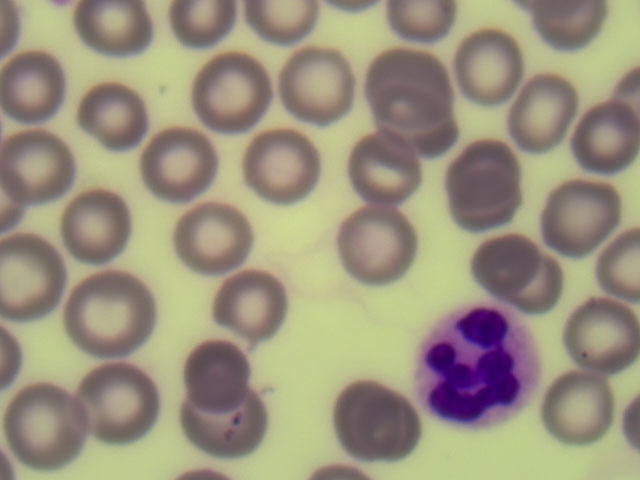RBC: (1, 46, 77, 125), (80, 74, 156, 153), (57, 180, 133, 259), (74, 274, 150, 353), (82, 360, 158, 439), (10, 381, 86, 460), (173, 341, 249, 420), (168, 381, 244, 460), (207, 260, 283, 339), (176, 189, 252, 268), (142, 127, 218, 206), (201, 50, 277, 129), (246, 127, 322, 206), (273, 44, 349, 123), (372, 38, 448, 117), (346, 129, 422, 208), (343, 202, 419, 281), (340, 379, 416, 458), (454, 138, 530, 217), (452, 32, 528, 111), (506, 75, 582, 154), (563, 92, 639, 171), (547, 177, 623, 256), (465, 212, 541, 291), (487, 242, 563, 321), (561, 298, 637, 377), (545, 367, 621, 446), (1, 122, 76, 201), (1, 231, 76, 310)
WBC: (413, 296, 540, 433)
